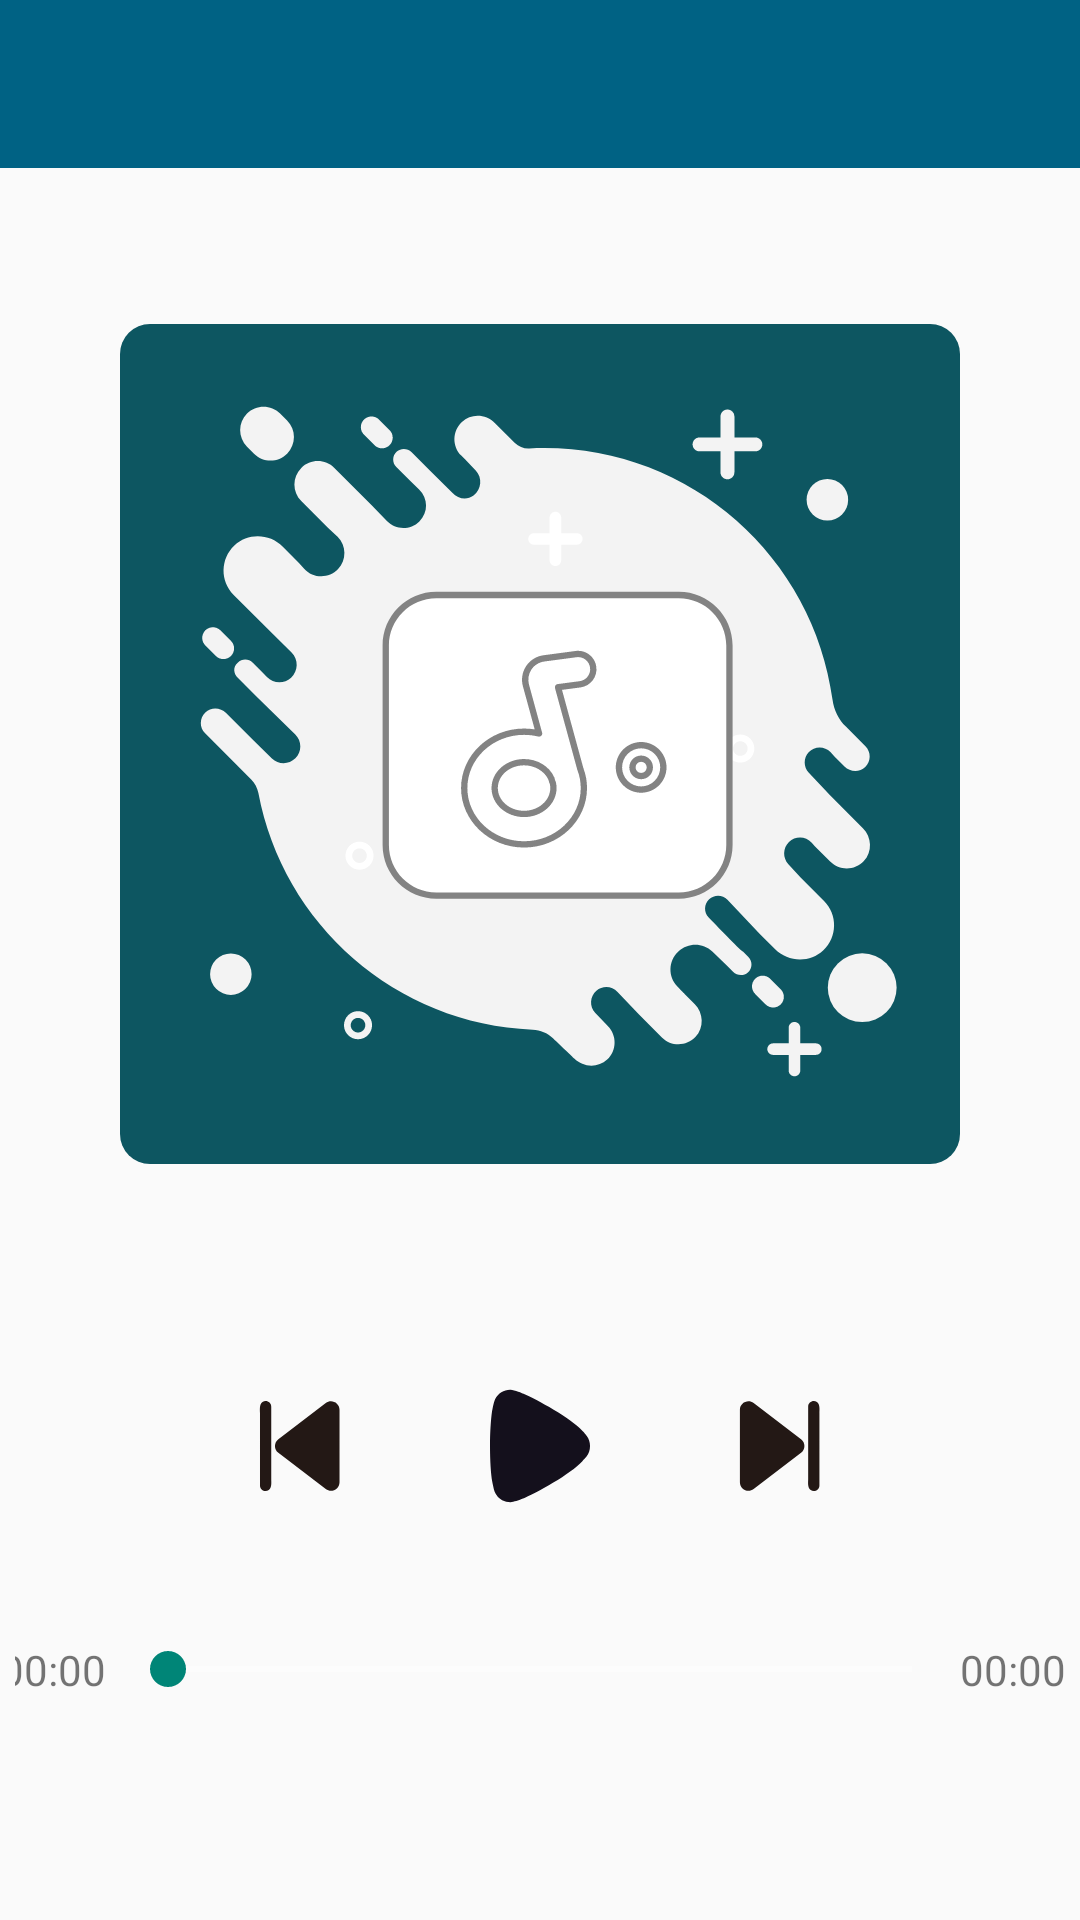

Icons on this 1080 x 1920 Android screen, each with its box as (x1, y1, x2, y2):
lastsong: (259, 1401, 340, 1491)
nextsong: (740, 1401, 820, 1491)
play: (490, 1389, 590, 1503)
